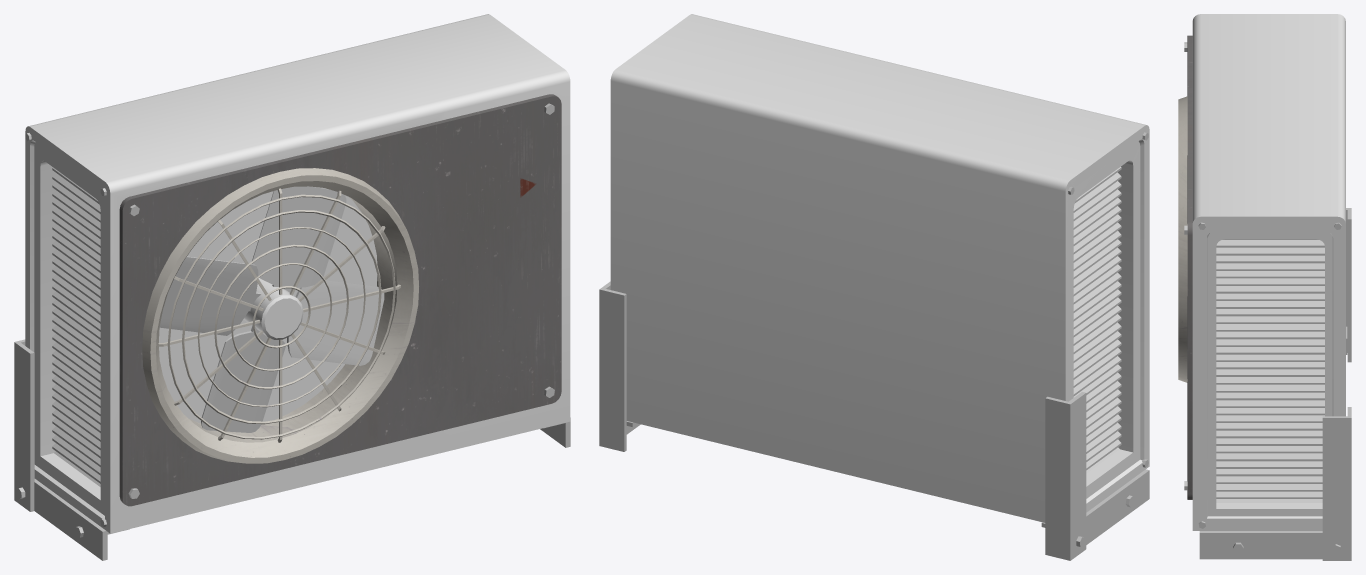
Rendered from KB3D_CBP_ACunit_S.fbx.
3 views of the same model, side by side, from view 1: azimuth 30°, elevation 25°; view 2: azimuth 150°, elevation 25°; view 3: azimuth 270°, elevation 25° (orthographic). The views are drawn at different scales.
Visible parts, largest first — view 1: KB3D_CBP_ACunit_S_Main; view 2: KB3D_CBP_ACunit_S_Main; view 3: KB3D_CBP_ACunit_S_Main.
Boxes of the visible parts, bbox=[...] form: KB3D_CBP_ACunit_S_Main: bbox=[14, 14, 570, 560]; KB3D_CBP_ACunit_S_Main: bbox=[599, 14, 1149, 560]; KB3D_CBP_ACunit_S_Main: bbox=[1178, 14, 1351, 560].
Bounding box in the file's own units: 197 × 147 × 67.87.
